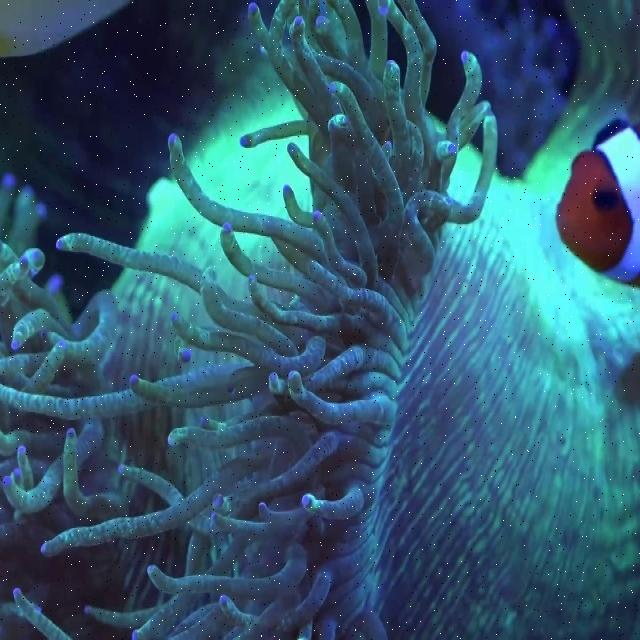fish: (557, 119, 639, 287)
reefs: (0, 0, 639, 639)
